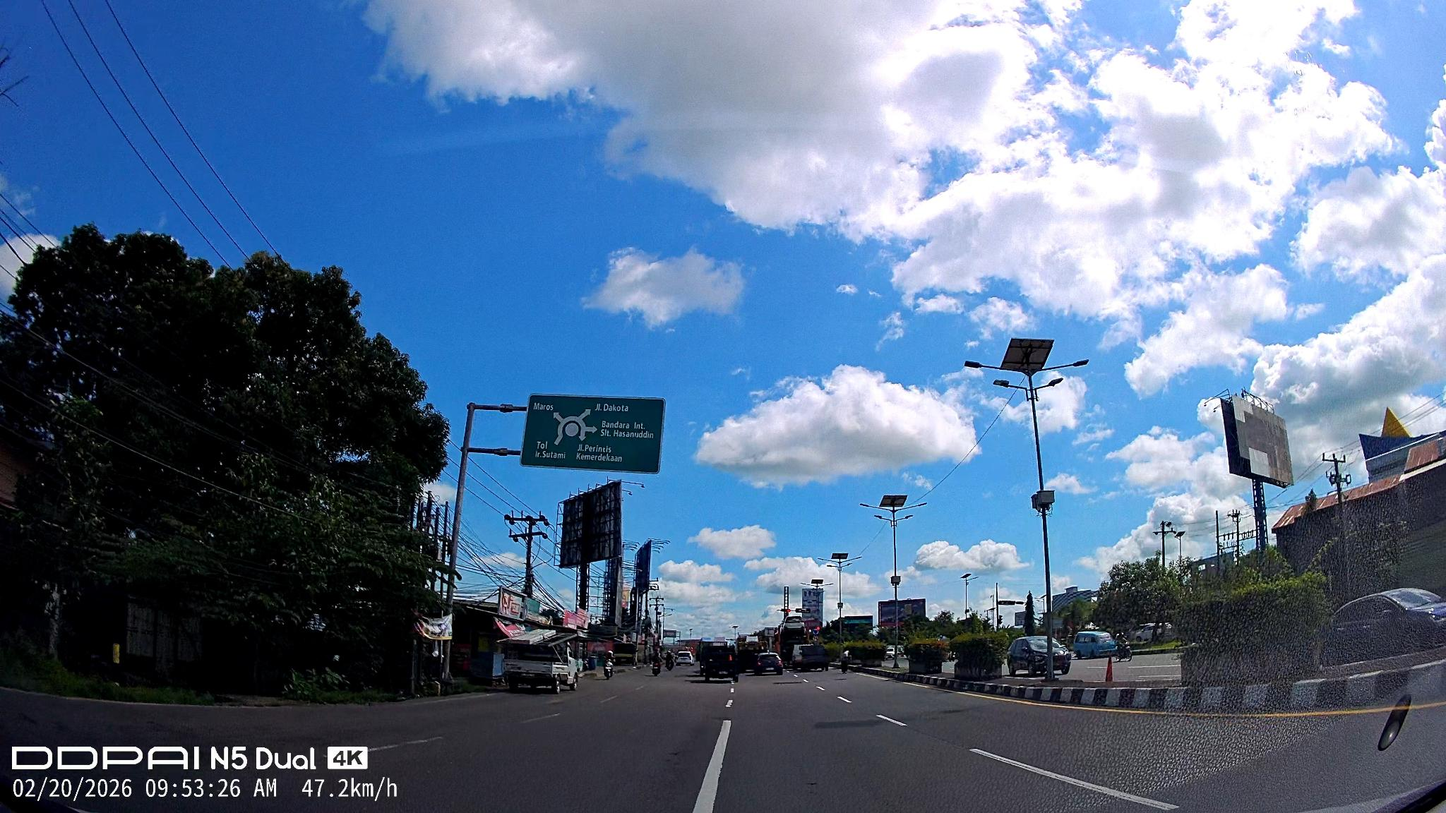rambu_teks: (519, 392, 666, 475)
